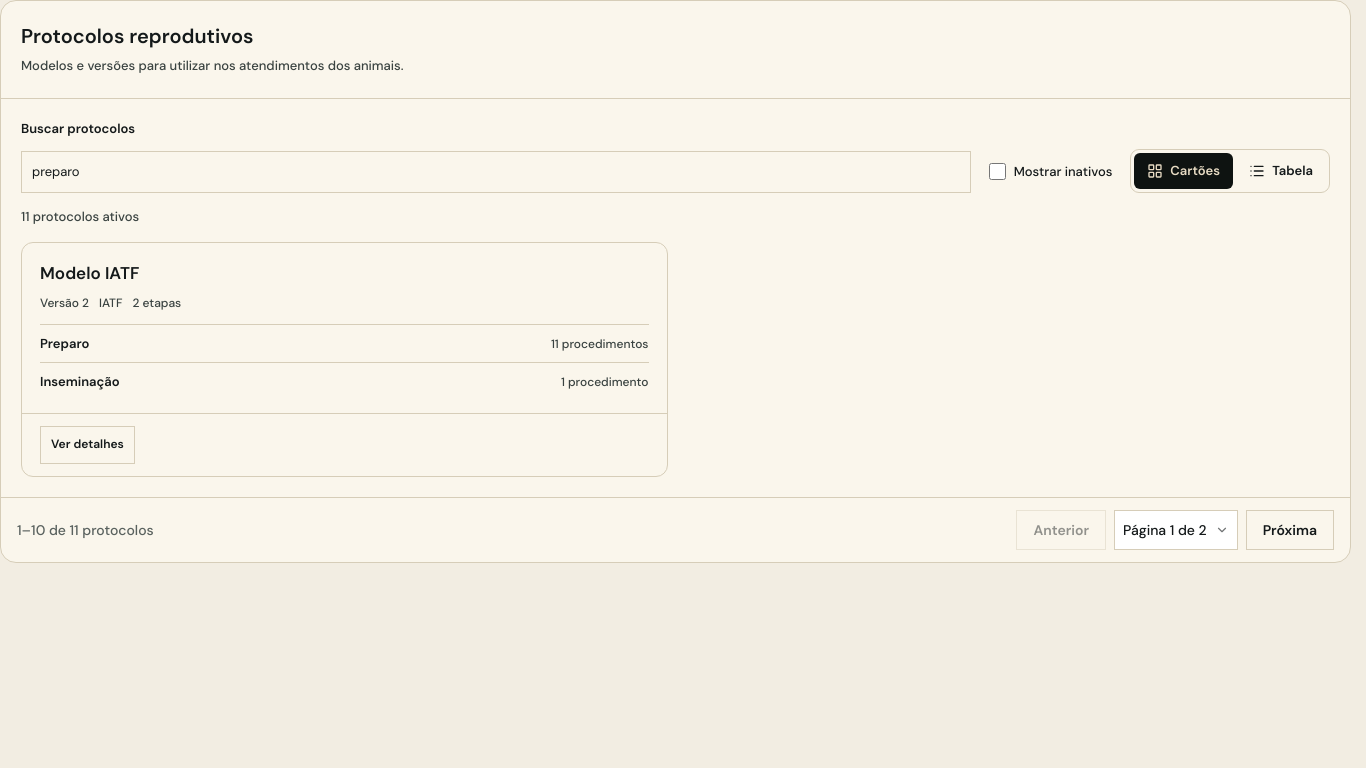
Test case: REPRODUTIVO: alterna cards/tabela preservando recorte e permite ao leitor consultar o modal
Expected: the text "Preparo" is shown, [40,334,89,353]
Step 1. Click the button "Tabela" → (1281, 170), box [1236,152,1326,188]
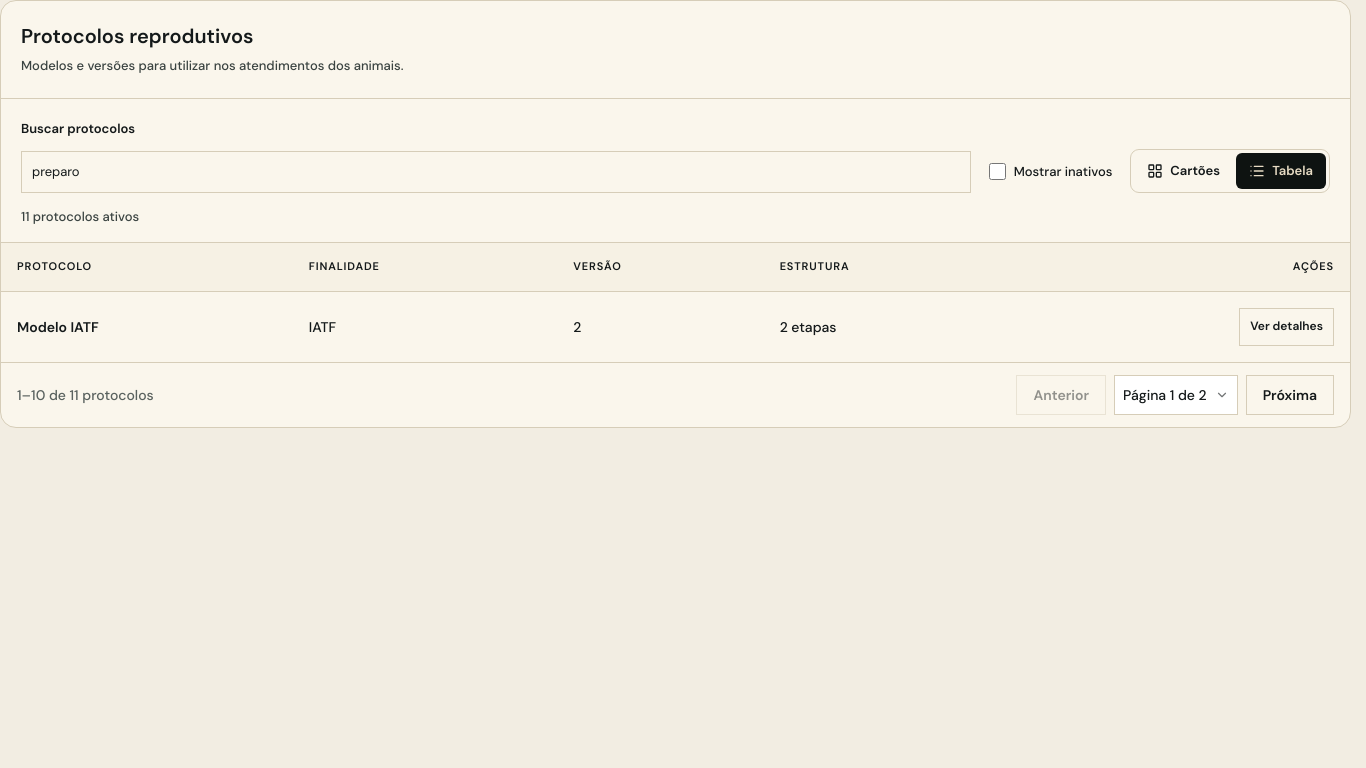
Expected: the search field holds "preparo", [21,151,971,192]
Result: the table named "Protocolos reprodutivos" is shown at [1,243,1350,362]
Step 2. Click the button with aria-label "Ver detalhes de" → (1287, 327), box [1239,308,1334,346]
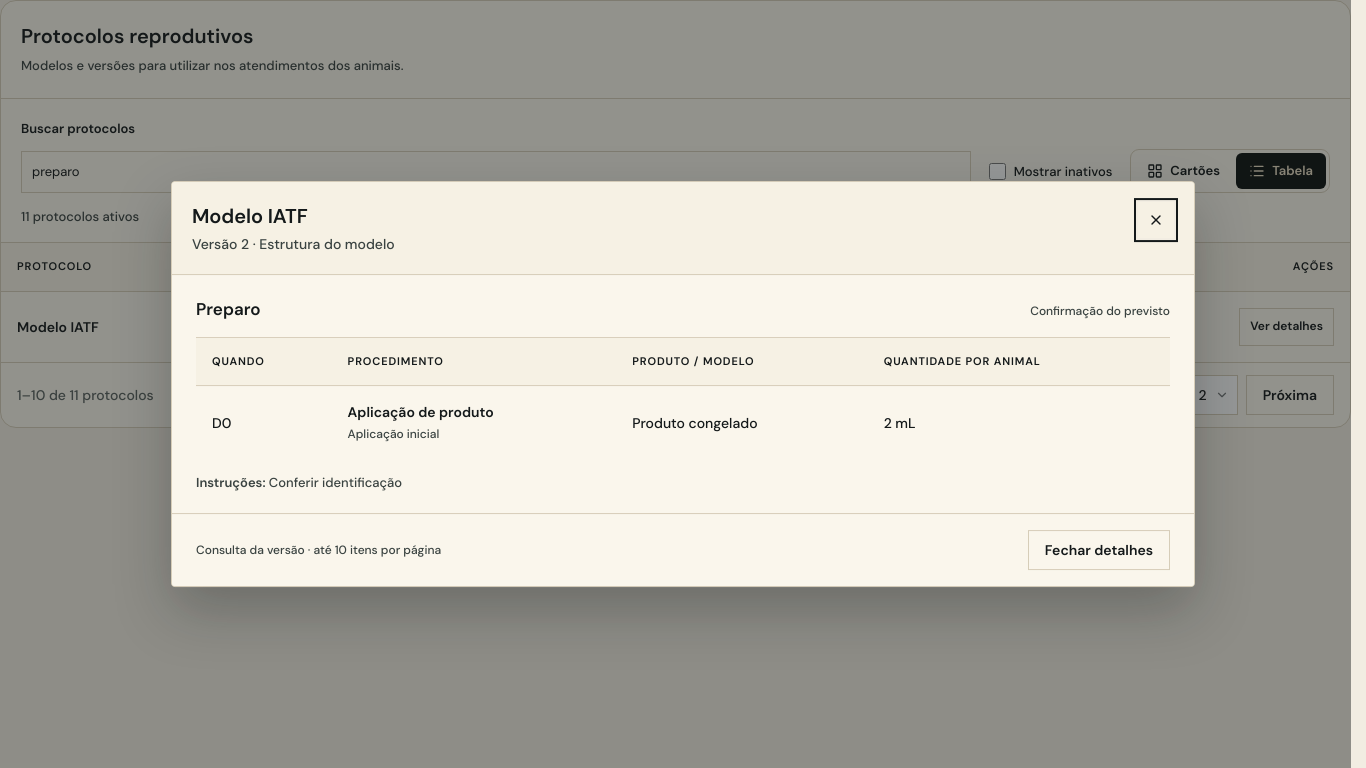
Result: the dialog is shown at [171,181,1195,587]
Result: the text "Confirmação do previsto" is shown at [1030,302,1170,320]
Result: the text "Conferir identificação" is shown at [269,474,402,491]
Step 3. Click the button "Fechar detalhes" → (1099, 550), box [1028,530,1170,570]
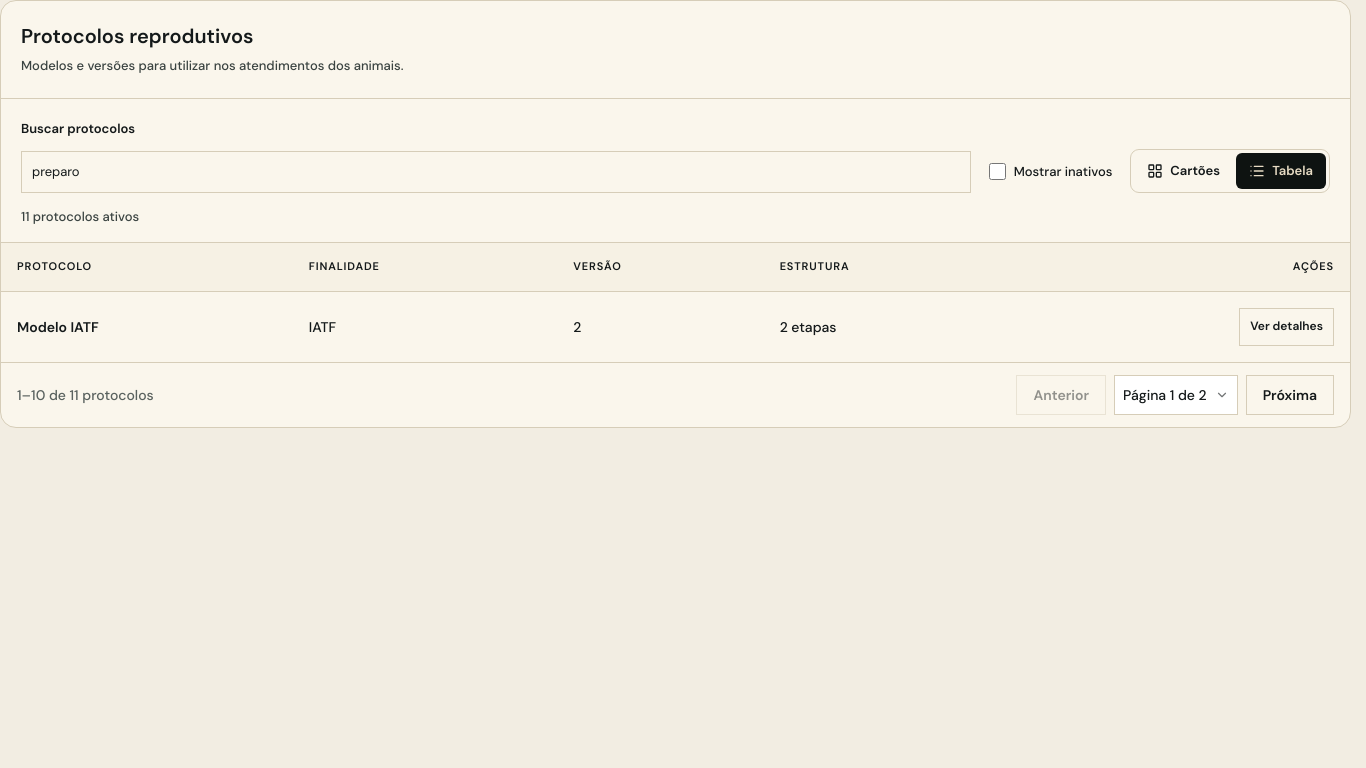
Result: the dialog is gone
